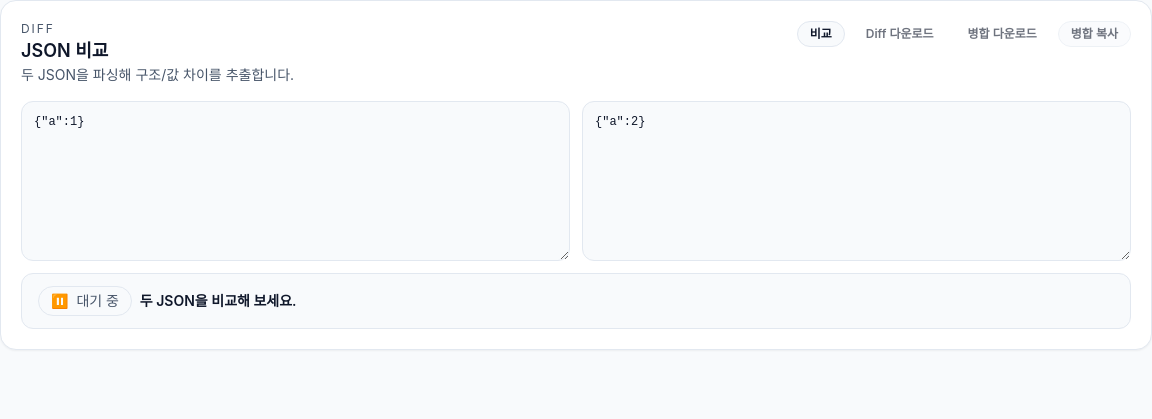
JsonDiffViewer › shows diff when inputs differ
The image size is (1152, 419).
Click the button "비교": point(821, 34) [797,21,845,47]
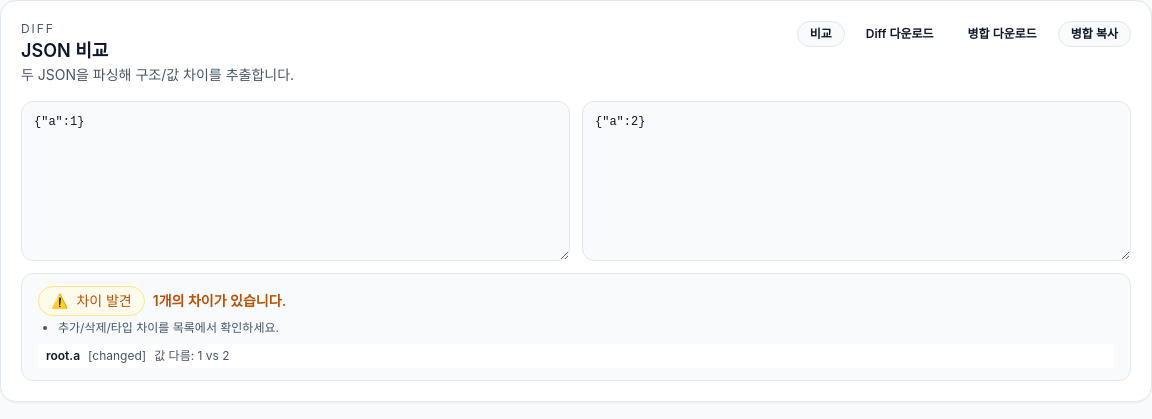
Result: the text "차이가 있습니다" is shown at [153,292,286,309]
Result: the text "값 다름" is shown at [154,348,230,363]
